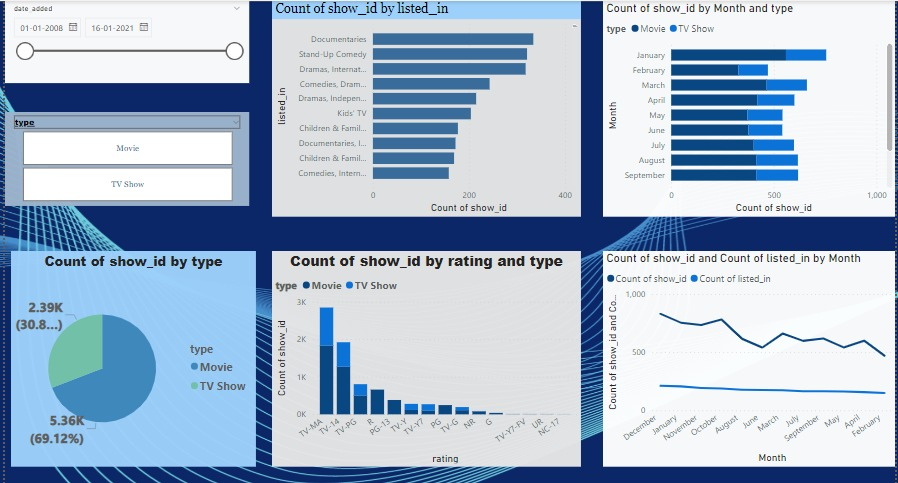

Layout of this report page (visuals, bound fields, positions):
{"tool":"powerbi","page":{"name":"Capstone project power BI 1","canvas":[1280,720],"ordinal":3},"visuals":[{"type":"barChart","fields":{"Category":["netflix_titles (1).listed_in"],"Y":["CountNonNull(netflix_titles (1).show_id)"]},"box":[10.1,0,317.5,311],"z":0},{"type":"pieChart","fields":{"Category":["netflix_titles (1).type"],"Y":["CountNonNull(netflix_titles (1).show_id)"]},"box":[8.4,359.5,319.2,332.6],"z":1000},{"type":"columnChart","fields":{"Category":["netflix_titles (1).rating"],"Series":["netflix_titles (1).type"],"Y":["CountNonNull(netflix_titles (1).show_id)"]},"box":[425,0,369.6,310.8],"z":2000},{"type":"barChart","fields":{"Series":["netflix_titles (1).type"],"Category":["netflix_titles (1).date_added.Variation.Date Hierarchy.Month"],"Y":["CountNonNull(netflix_titles (1).show_id)"]},"box":[855,0,337.6,359.5],"z":3000},{"type":"slicer","fields":{"Values":["netflix_titles (1).type"]},"box":[389.7,557.7,351.1,134.4],"z":4000},{"type":"slicer","fields":{"Values":["netflix_titles (1).date_added Hierarchy.date_added"]},"box":[425,379.6,282.2,117.6],"z":5000},{"type":"lineChart","fields":{"Category":["netflix_titles (1).date_added.Variation.Date Hierarchy.Month"],"Y":["CountNonNull(netflix_titles (1).show_id)","Count(netflix_titles (1).listed_in)"]},"box":[831.5,438.4,418.3,253.6],"z":6000}]}

Visuals, with their boxes on the page's 1280x720 design canvas (x1, y1, x2, y2). These are canvas units, not pixel positions in the 898x483 screenshot, which may show the page scaled, cropped or inside an application window:
barChart - netflix_titles (1).listed_in x CountNonNull(netflix_titles (1).show_id): pyautogui.locateOnScreen(10, 0, 328, 311)
pieChart - netflix_titles (1).type x CountNonNull(netflix_titles (1).show_id): pyautogui.locateOnScreen(8, 360, 328, 692)
columnChart - netflix_titles (1).rating x netflix_titles (1).type: pyautogui.locateOnScreen(425, 0, 795, 311)
barChart - netflix_titles (1).type x netflix_titles (1).date_added.Variation.Date Hierarchy.Month: pyautogui.locateOnScreen(855, 0, 1193, 360)
slicer - netflix_titles (1).type: pyautogui.locateOnScreen(390, 558, 741, 692)
slicer - netflix_titles (1).date_added Hierarchy.date_added: pyautogui.locateOnScreen(425, 380, 707, 497)
lineChart - netflix_titles (1).date_added.Variation.Date Hierarchy.Month x CountNonNull(netflix_titles (1).show_id): pyautogui.locateOnScreen(832, 438, 1250, 692)
